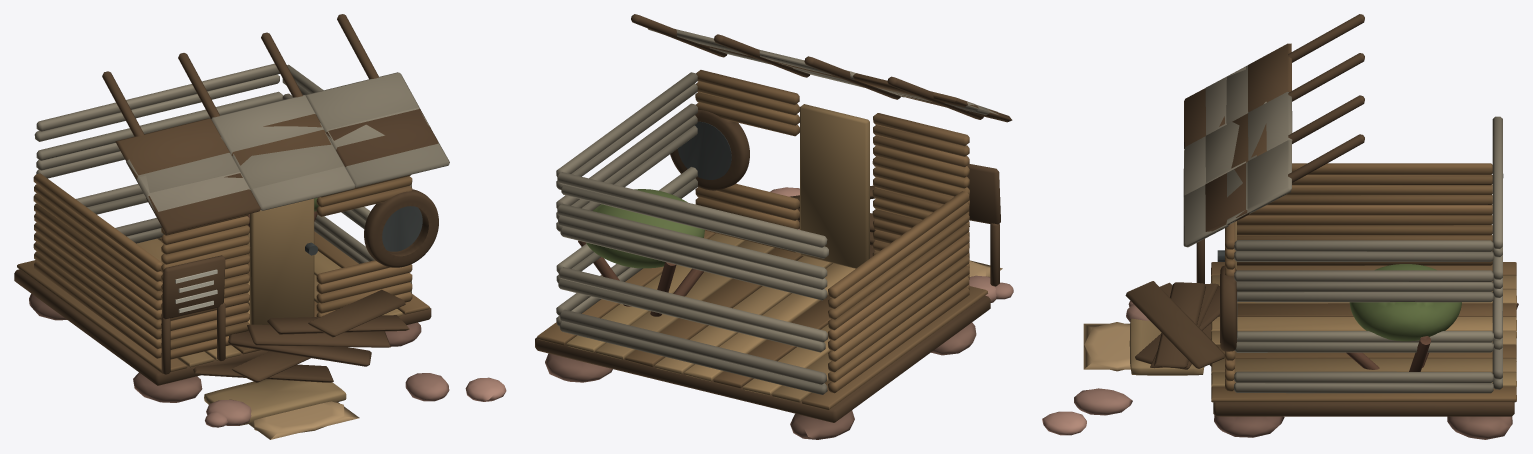
Rendered from lookout_hut_c.glb.
3 views of the same model, side by side, from view 1: azimuth 30°, elevation 25°; view 2: azimuth 150°, elevation 25°; view 3: azimuth 270°, elevation 25° (orthographic). The views are drawn at different scales.
Visible parts, largest first — view 1: Surface; view 2: Surface; view 3: Surface.
Part boxes in pixels (bbox=[...]): Surface: bbox=[14, 14, 506, 439]; Surface: bbox=[535, 14, 1013, 439]; Surface: bbox=[1042, 14, 1518, 439].
Size of the model in its own units: 4.23 by 3.99 by 5.7.
